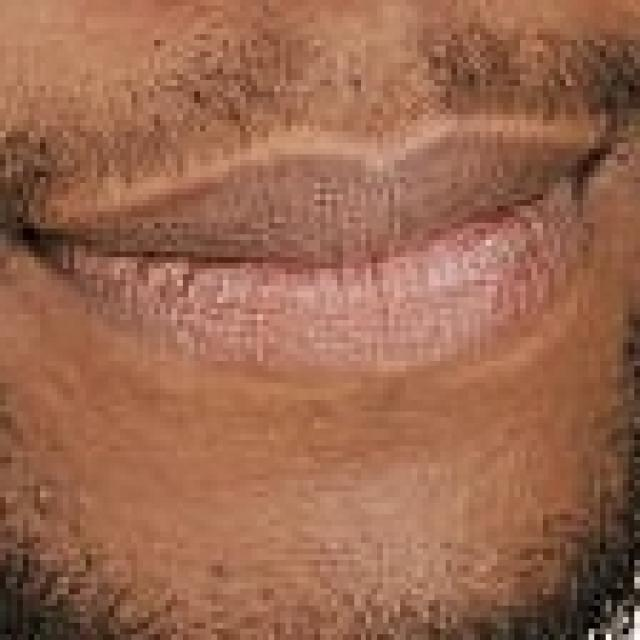closed-mouth: (0, 102, 634, 377)
